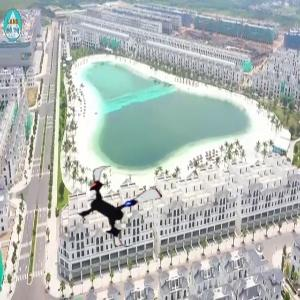drone: (74, 161, 164, 251)
